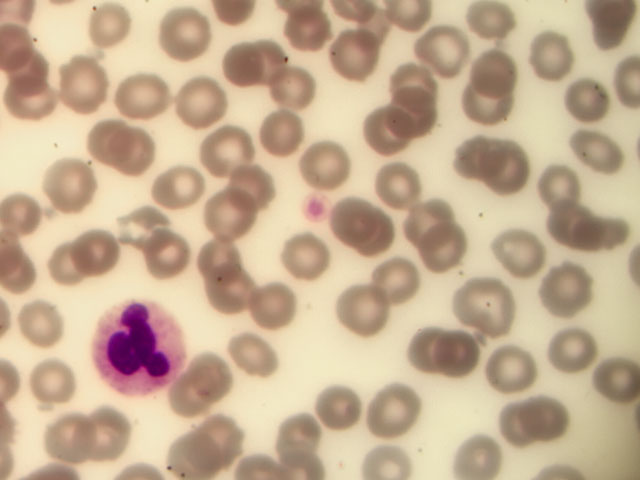Platelets: (306, 192, 327, 221)
RBC: (60, 54, 116, 115), (162, 4, 218, 65), (116, 63, 172, 124), (173, 68, 229, 129), (112, 120, 168, 181), (80, 113, 136, 174), (45, 156, 101, 217), (69, 220, 125, 281), (47, 231, 103, 292), (117, 190, 173, 251), (134, 213, 190, 274), (150, 163, 206, 224), (193, 120, 249, 181), (239, 102, 295, 163), (262, 62, 318, 123), (263, 33, 319, 94), (220, 41, 276, 102), (282, 6, 338, 67), (322, 34, 378, 95), (421, 19, 477, 80), (387, 45, 443, 106), (388, 84, 444, 145), (357, 112, 413, 173), (295, 133, 351, 194), (230, 156, 286, 217), (204, 185, 260, 246), (195, 214, 251, 275), (202, 260, 258, 321), (244, 276, 300, 337), (277, 230, 333, 291), (325, 188, 381, 249), (343, 205, 399, 266), (371, 153, 427, 214), (392, 176, 448, 237), (414, 214, 470, 275), (371, 241, 427, 302), (343, 278, 399, 339), (230, 321, 286, 382), (192, 345, 248, 406), (165, 368, 221, 429), (80, 402, 136, 463), (45, 409, 101, 470), (20, 351, 76, 412), (20, 287, 76, 348), (456, 270, 512, 331), (438, 316, 494, 377), (403, 321, 459, 382), (365, 381, 421, 442), (318, 377, 374, 438), (271, 408, 327, 469), (207, 411, 263, 472), (163, 419, 219, 480), (446, 419, 502, 480), (496, 391, 552, 452), (524, 381, 580, 442), (485, 337, 541, 398), (548, 319, 604, 380), (584, 345, 640, 406), (544, 261, 600, 322), (489, 224, 545, 285), (545, 194, 601, 255), (533, 158, 589, 219), (566, 125, 622, 186), (560, 73, 616, 134), (525, 28, 581, 89), (471, 35, 527, 96), (450, 73, 506, 134), (442, 123, 498, 184), (478, 138, 534, 199), (79, 1, 135, 61), (1, 81, 56, 142), (1, 23, 56, 84)
WBC: (93, 298, 187, 396)
